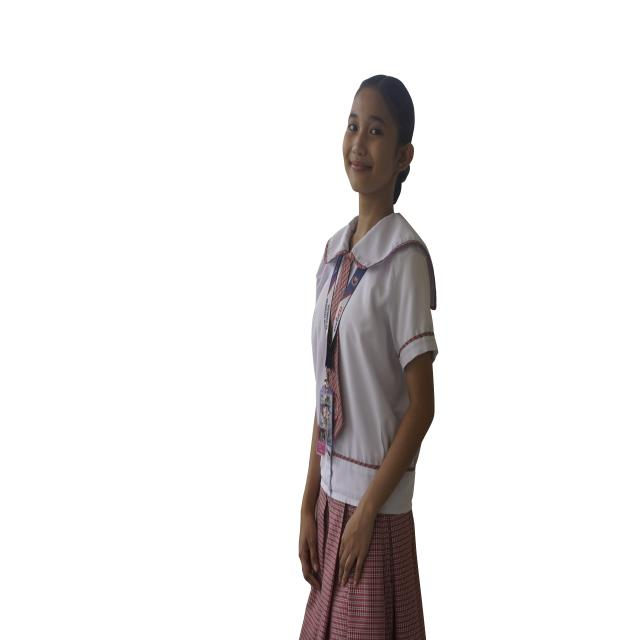id lace: (324, 257, 368, 367)
pologirl: (311, 213, 438, 505)
skirt: (300, 489, 426, 640)
